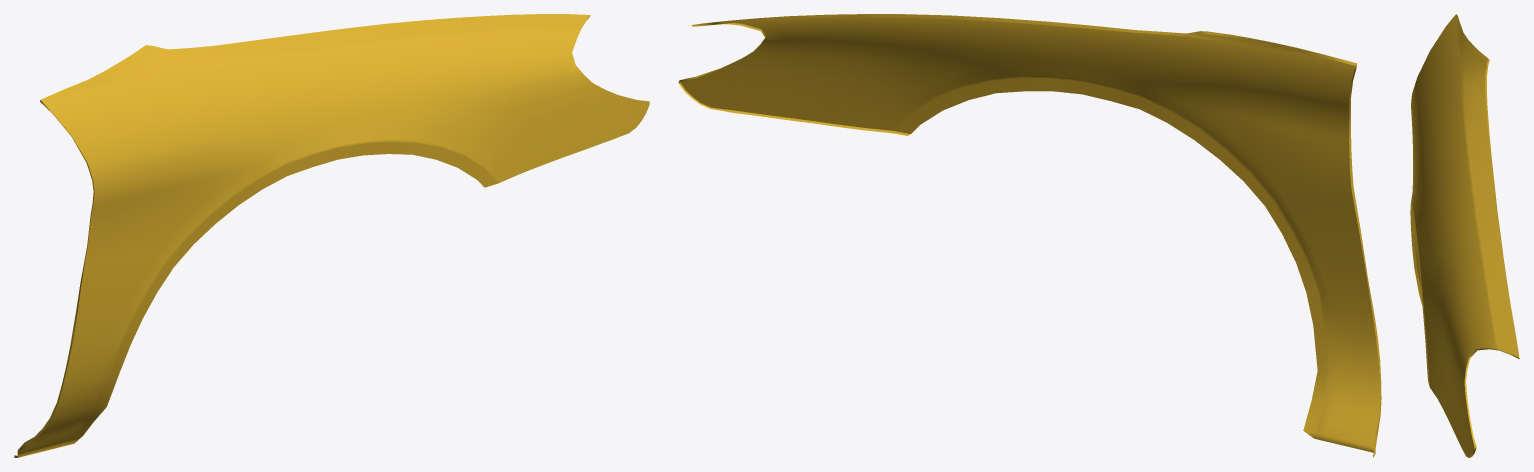
The picture shows the model from 3 angles, left to right: view 1: azimuth 30°, elevation 25°; view 2: azimuth 150°, elevation 25°; view 3: azimuth 270°, elevation 25°; orthographic projection. The views are drawn at different scales.
Parts seen in each view (by area): view 1: P353_20_141B_R_1_DaS_P353_20_141B_R, P353_20_141B_R_1_DaS_P353_20_141B_R_E; view 2: P353_20_141B_R_1_DaS_P353_20_141B_R, P353_20_141B_R_1_DaS_P353_20_141B_R_E; view 3: P353_20_141B_R_1_DaS_P353_20_141B_R, P353_20_141B_R_1_DaS_P353_20_141B_R_E.
Part boxes in pixels (<box>): P353_20_141B_R_1_DaS_P353_20_141B_R: <box>18,14,649,457</box>; P353_20_141B_R_1_DaS_P353_20_141B_R_E: <box>14,15,618,457</box>; P353_20_141B_R_1_DaS_P353_20_141B_R: <box>680,14,1380,452</box>; P353_20_141B_R_1_DaS_P353_20_141B_R_E: <box>678,14,1381,457</box>; P353_20_141B_R_1_DaS_P353_20_141B_R: <box>1410,14,1519,457</box>; P353_20_141B_R_1_DaS_P353_20_141B_R_E: <box>1414,15,1519,457</box>.
Bounding box in the file's own units: 131 × 72.17 × 20.6.
